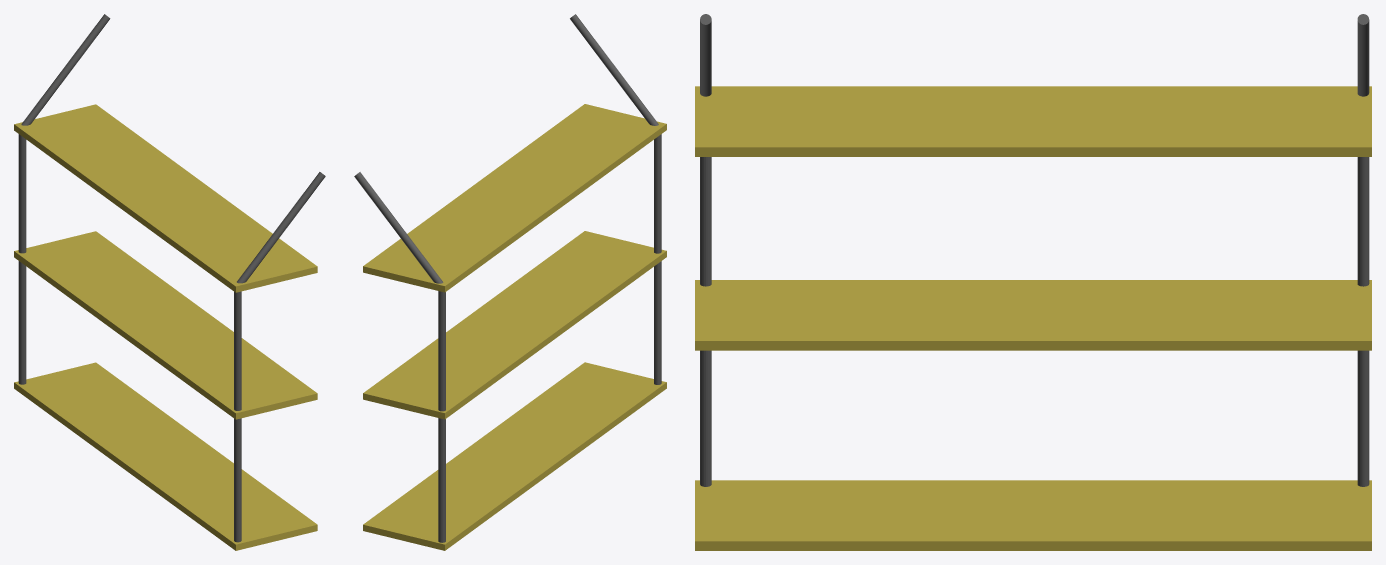
File: WallShelf.fbx
The picture shows the model from 3 angles, left to right: view 1: azimuth 30°, elevation 25°; view 2: azimuth 150°, elevation 25°; view 3: azimuth 270°, elevation 25°; orthographic projection. The views are drawn at different scales.
Visible parts, largest first — view 1: Wall_Shelf; view 2: Wall_Shelf; view 3: Wall_Shelf.
Boxes of the visible parts, x1,y1,x2,y2 form: Wall_Shelf: [14, 14, 325, 550]; Wall_Shelf: [354, 14, 666, 550]; Wall_Shelf: [695, 14, 1371, 550].
Size of the model in its own units: 28.12 by 103 by 116.
